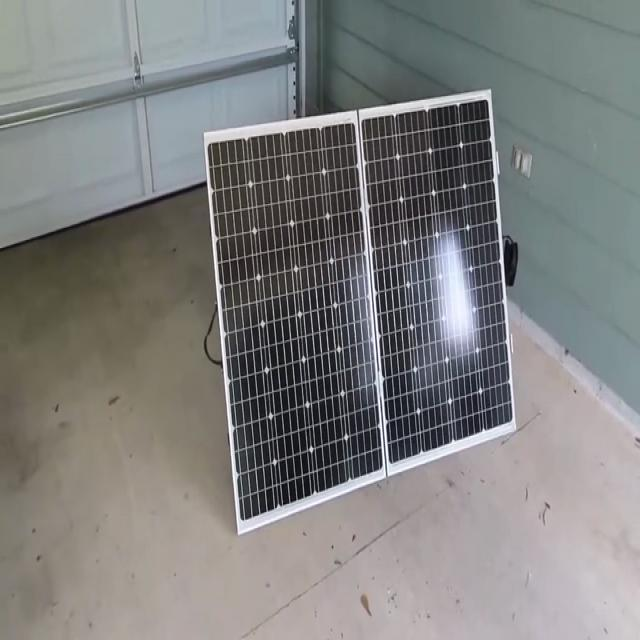Normal Solar Panel: (205, 89, 516, 533)
